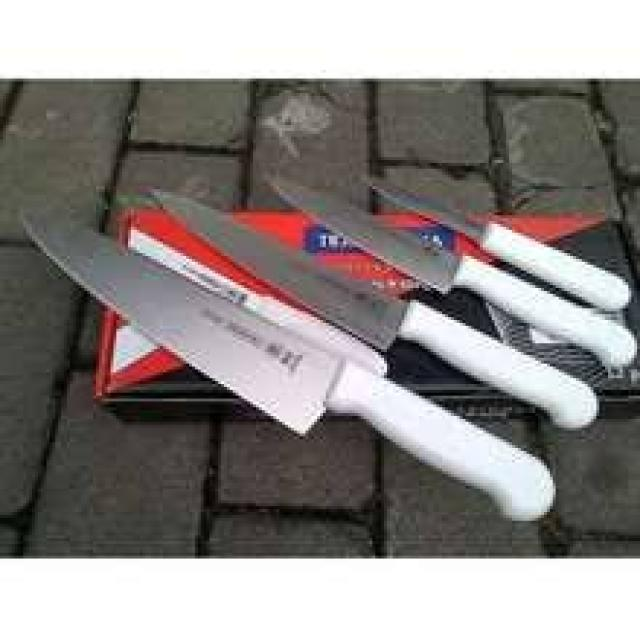Knife: (2, 121, 599, 544)
